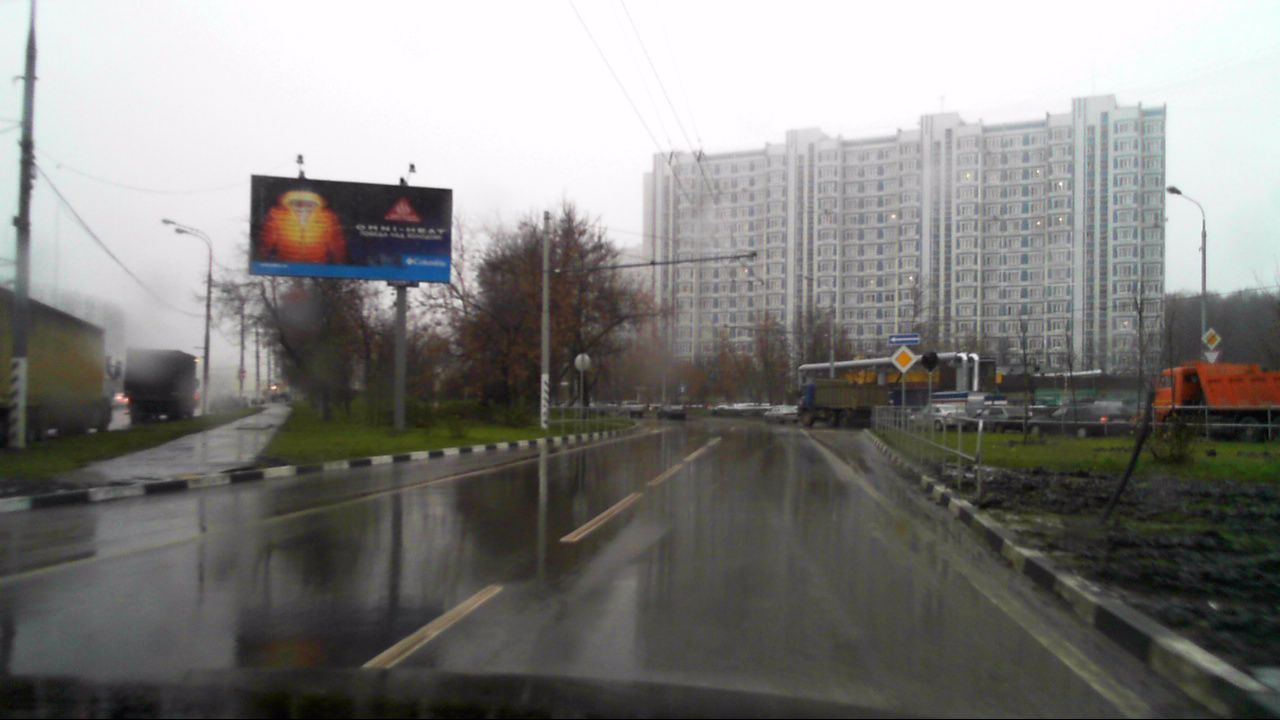main road: (1200, 328, 1222, 350)
